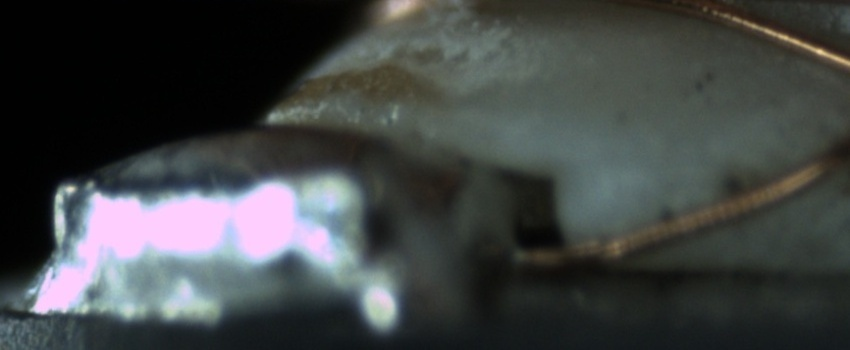DL: (578, 140, 708, 199)
